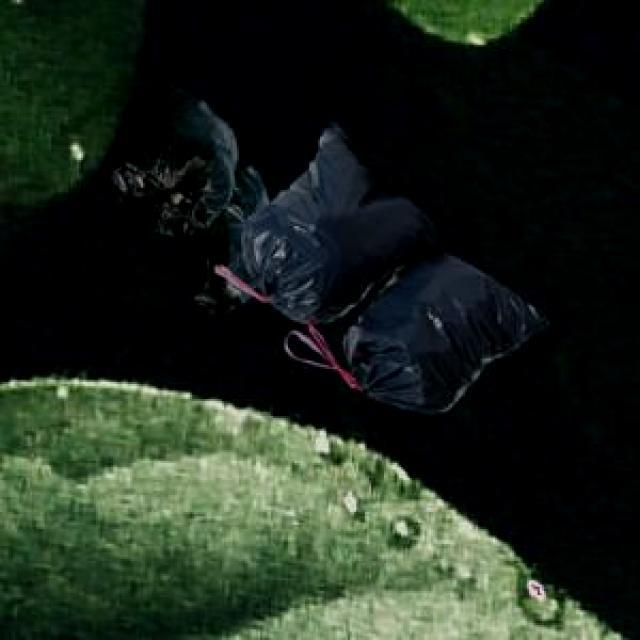Trashbag: (232, 123, 427, 312), (344, 262, 546, 420), (117, 100, 243, 228)
